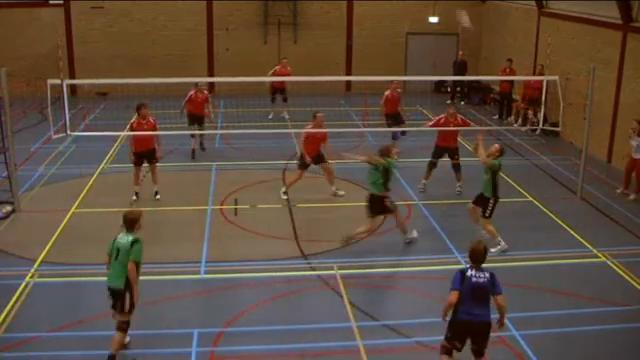Player: (440, 241, 506, 359), (342, 145, 417, 244), (280, 111, 344, 199), (107, 209, 142, 359), (128, 103, 161, 200), (419, 129, 461, 194), (181, 83, 212, 130), (380, 80, 405, 127), (269, 81, 288, 118)
Set: (466, 133, 517, 260)
